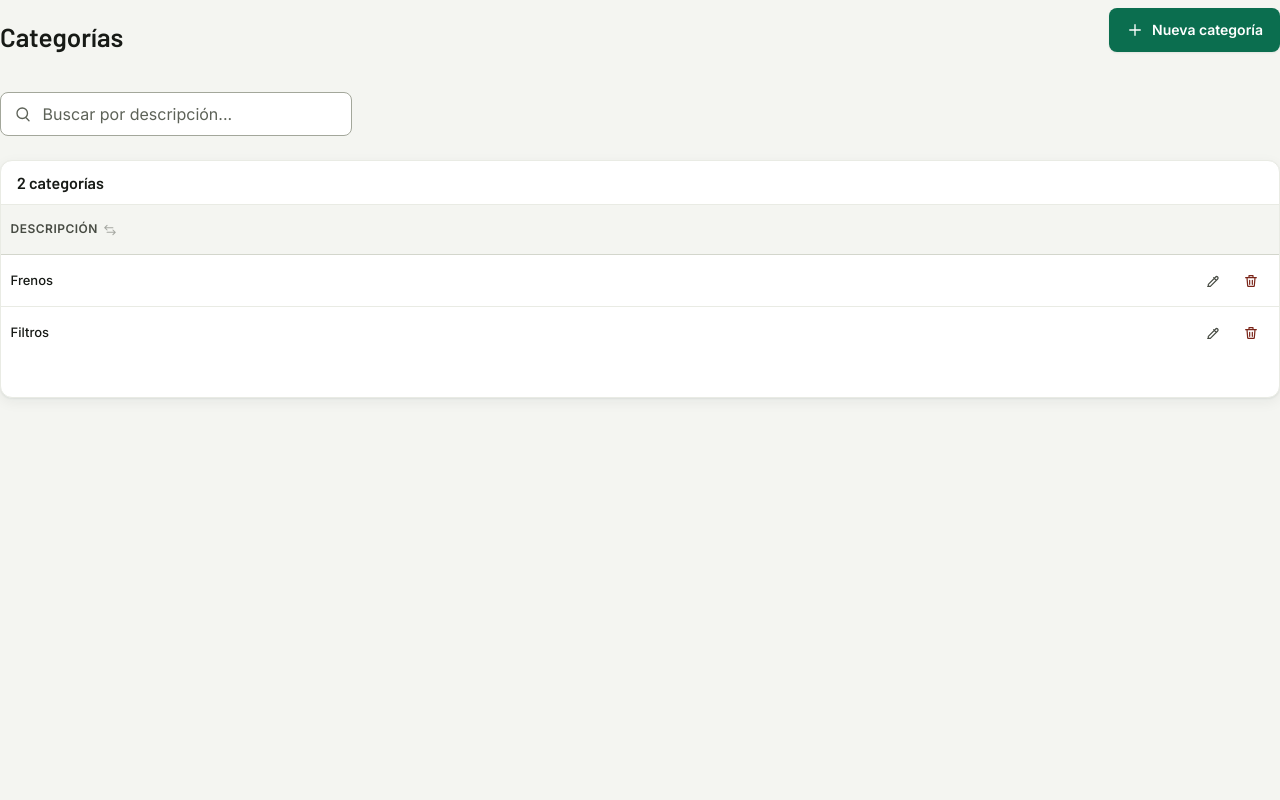
Test: CategoriasPage › muestra el error del backend si no se puede eliminar por tener repuestos asociados
This screenshot has width=1280, height=800.
Check: the text "Frenos" is shown, box [1,255,1185,307]
Click the button named "eliminar" in the row of "Frenos". click: (1251, 281)
box: [1233,263,1269,299]
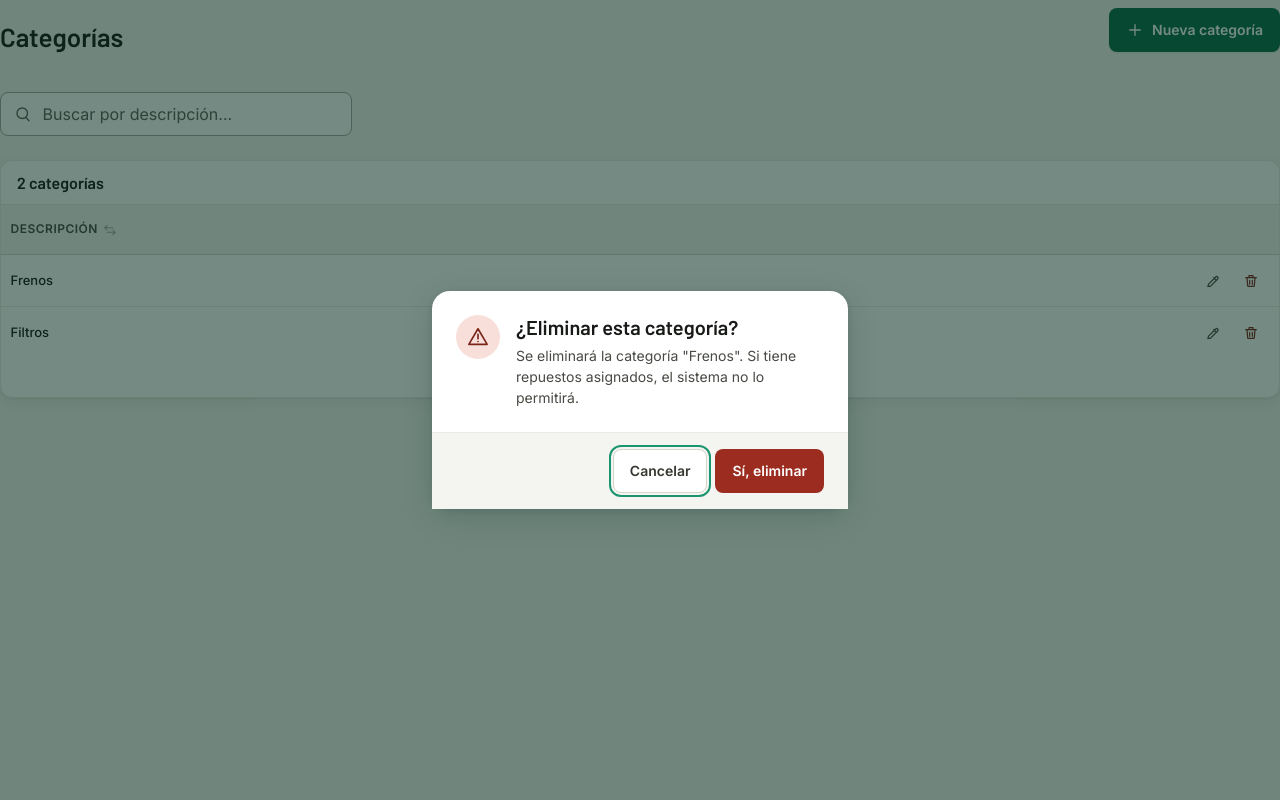
Click the button "Sí, eliminar". click: (770, 471)
box: [716,449,824,493]
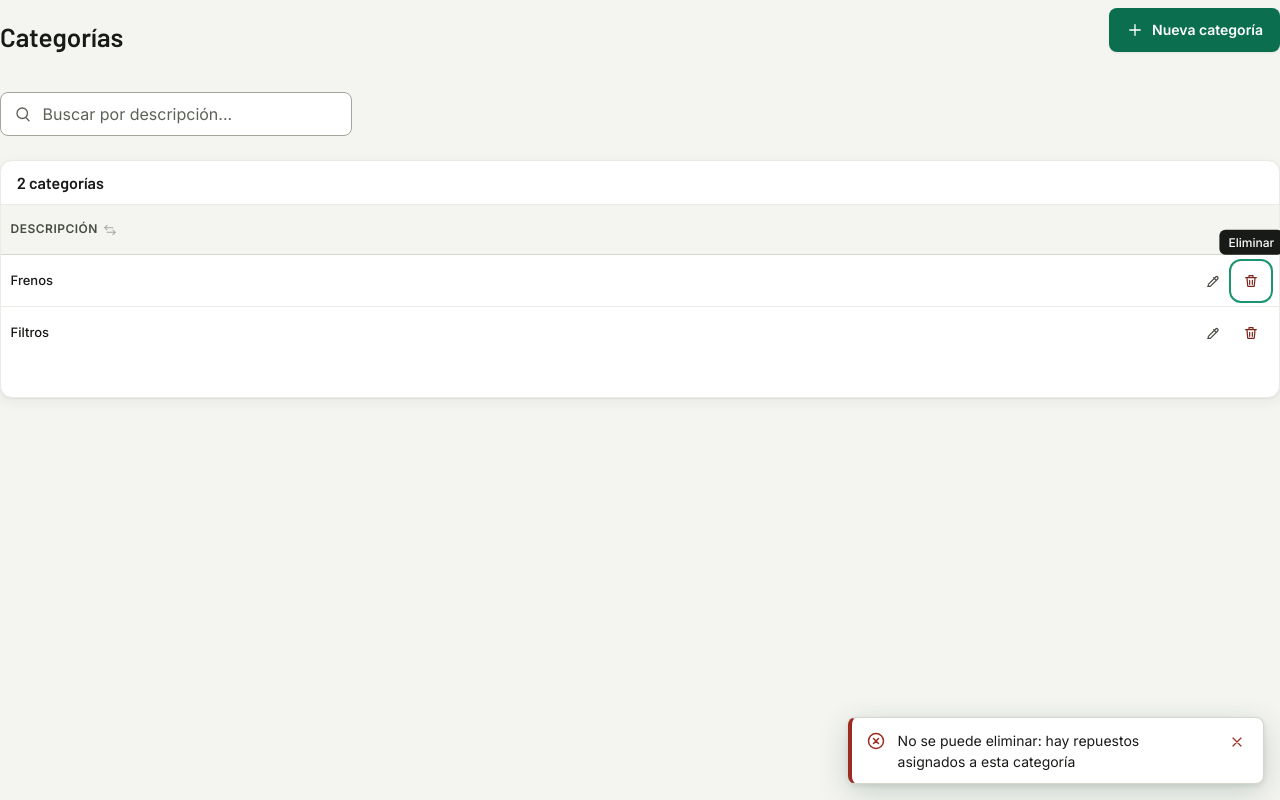
Check: the text "Frenos" is shown, box [1,255,1185,307]
Check: the message shows "repuestos asignados", box [898,732,1139,770]
